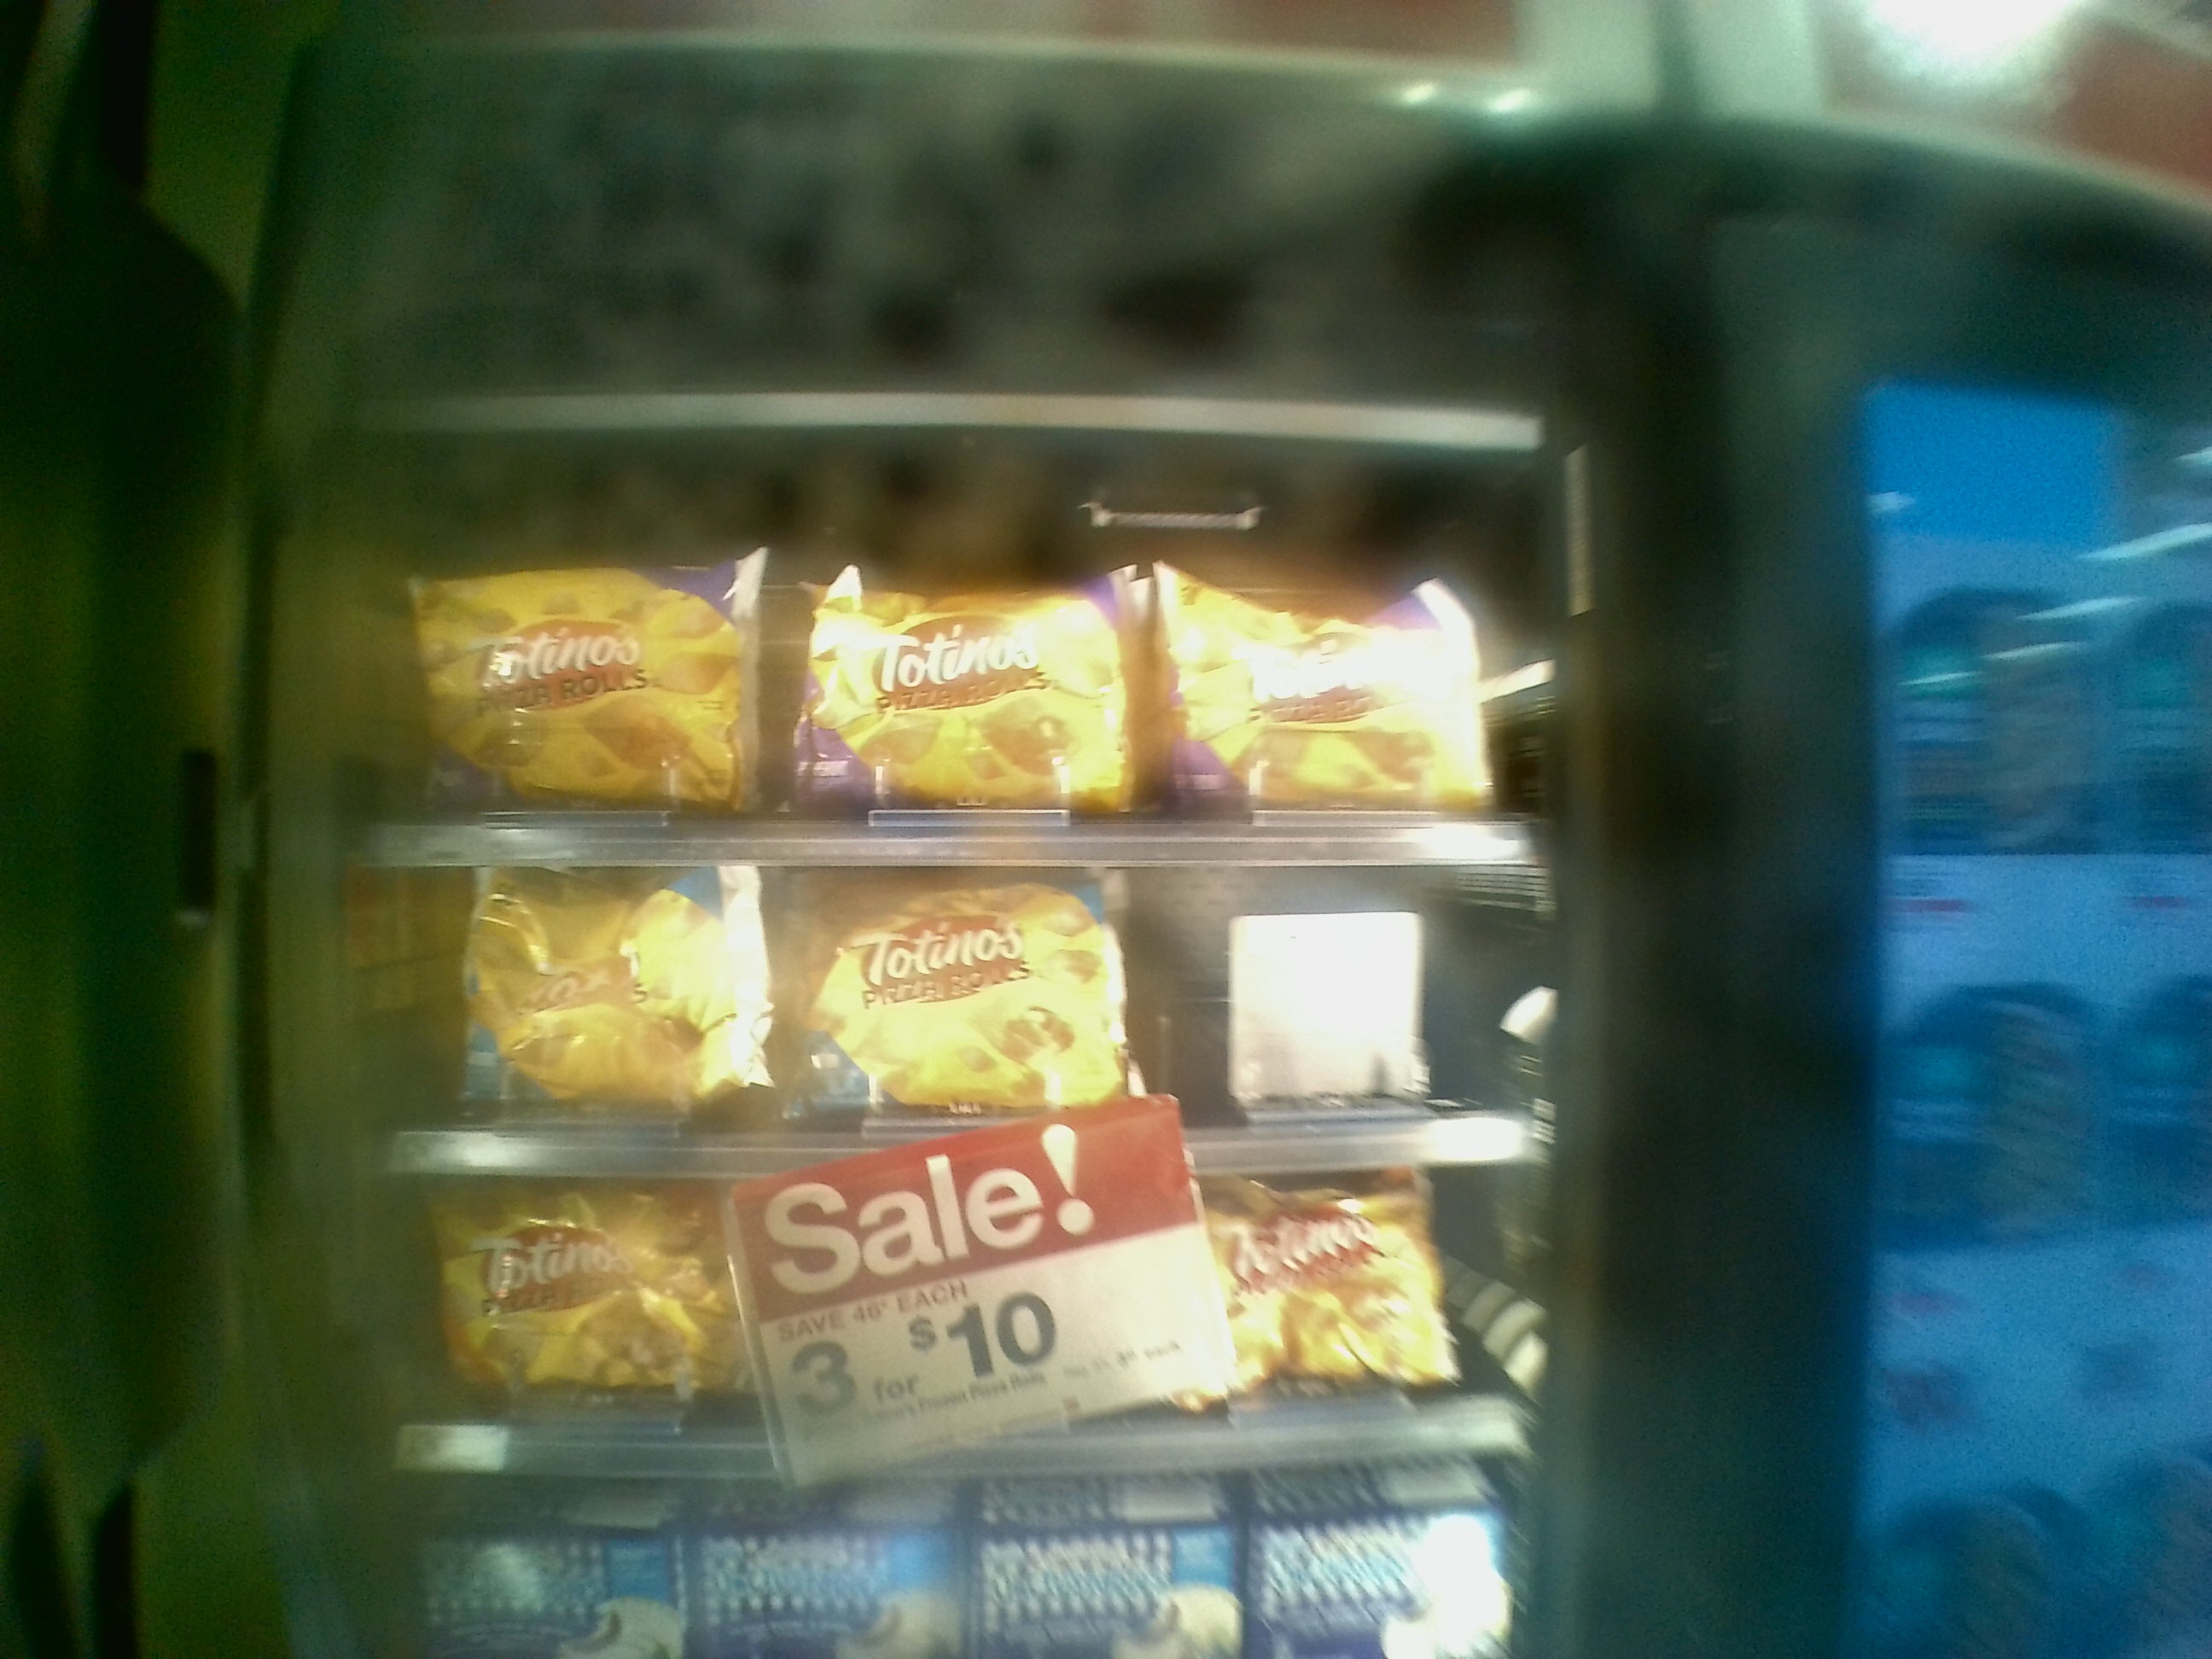shelf: (347, 432, 1545, 871), (350, 870, 1541, 1180), (355, 1192, 1534, 1464)
